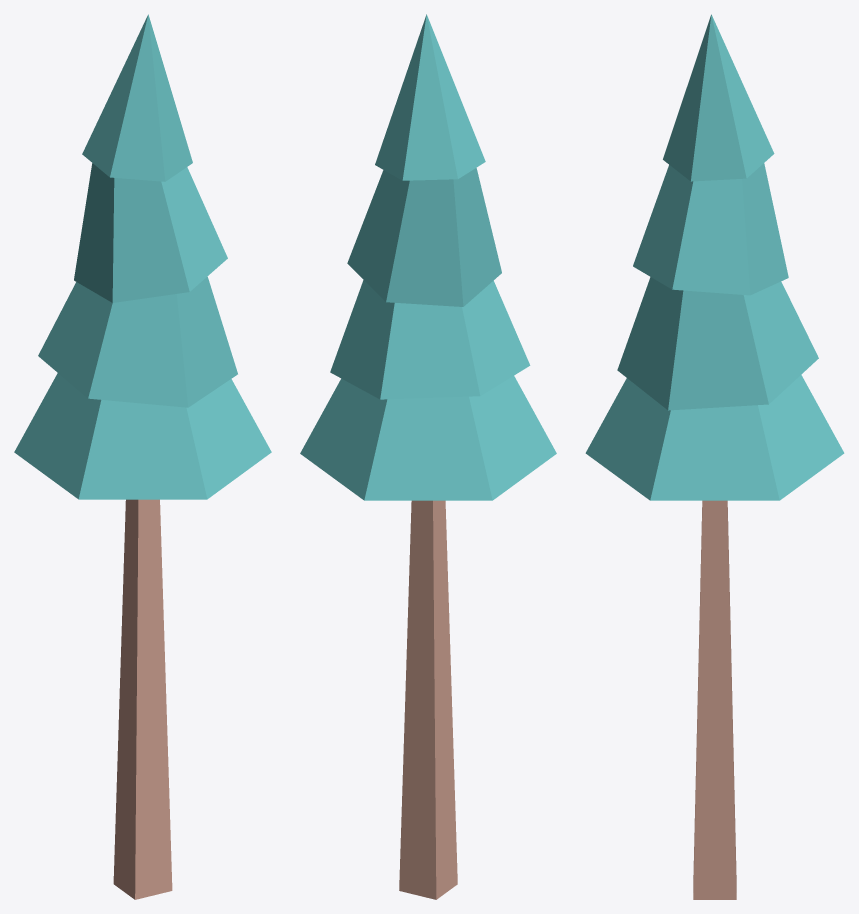
The model's file is tree_pineTallD.gltf.
3 views of the same model, side by side, from view 1: azimuth 30°, elevation 25°; view 2: azimuth 150°, elevation 25°; view 3: azimuth 270°, elevation 25° (orthographic).
Parts seen in each view (by area): view 1: tree_pineTallD; view 2: tree_pineTallD; view 3: tree_pineTallD.
Part boxes in pixels (left/top/right/bottom): tree_pineTallD: left=14, top=14, right=271, bottom=899; tree_pineTallD: left=300, top=14, right=556, bottom=899; tree_pineTallD: left=585, top=14, right=844, bottom=899.
Bounding box in the file's own units: 0.4804 × 2.08 × 0.5547.
